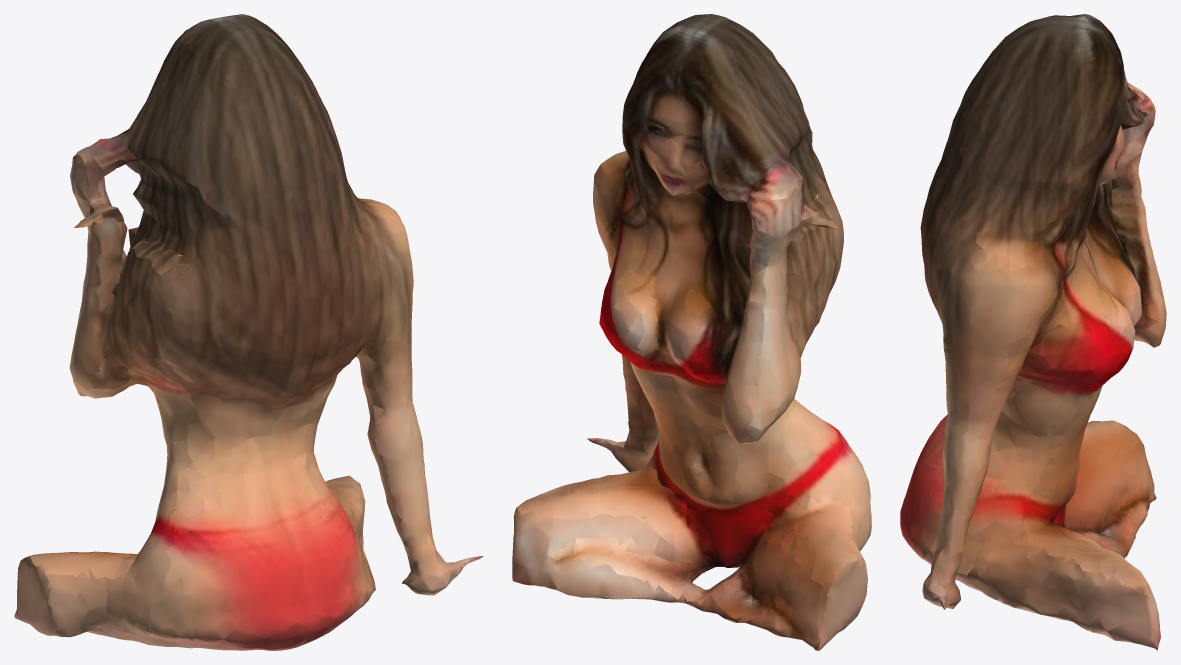
3 renders of one model, left to right at view 1: azimuth 30°, elevation 25°; view 2: azimuth 150°, elevation 25°; view 3: azimuth 270°, elevation 25°, orthographic. The views are drawn at different scales.
Parts seen in each view (by area): view 1: world; view 2: world; view 3: world.
Part boxes in pixels (bbox=[...]): world: bbox=[14, 14, 483, 650]; world: bbox=[512, 14, 871, 650]; world: bbox=[900, 14, 1166, 650].
Bounding box in the file's own units: 0.572 × 0.8833 × 0.3795.
Materials: 1 (1 with a texture image).
